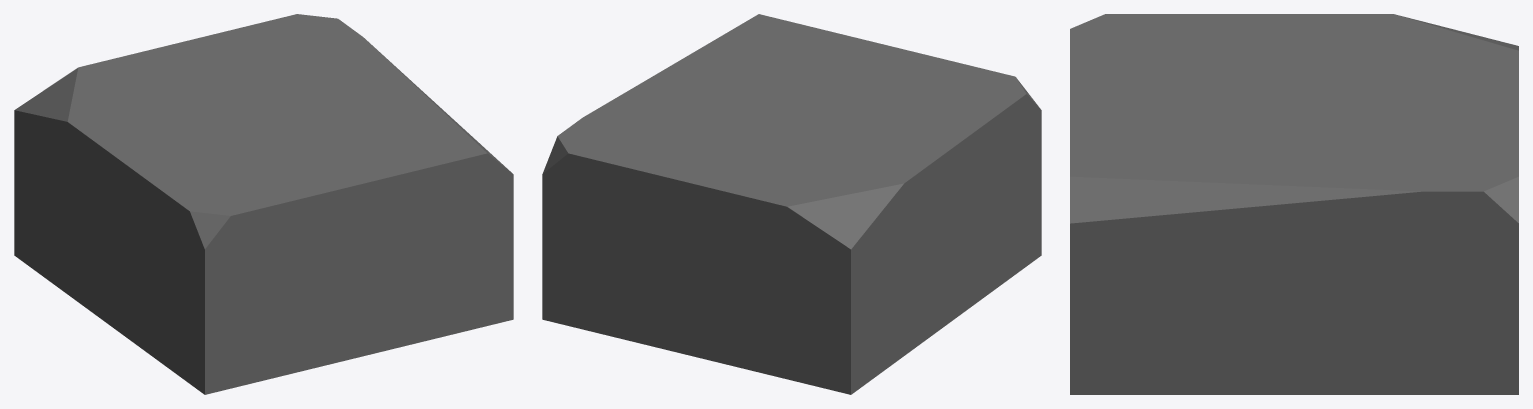
Rendered from Tile_03.fbx.
The picture shows the model from 3 angles, left to right: view 1: azimuth 30°, elevation 25°; view 2: azimuth 150°, elevation 25°; view 3: azimuth 270°, elevation 25°; orthographic projection. The views are drawn at different scales.
Parts seen in each view (by area): view 1: Tile_03_LOD0; view 2: Tile_03_LOD0; view 3: Tile_03_LOD0.
Boxes of the visible parts, x1,y1,x2,y2 form: Tile_03_LOD0: (14,14,513,394); Tile_03_LOD0: (542,14,1041,394); Tile_03_LOD0: (1070,14,1518,394).
Size of what is drawn, in the model's own units: 0.2875 by 0.1536 by 0.3072.
